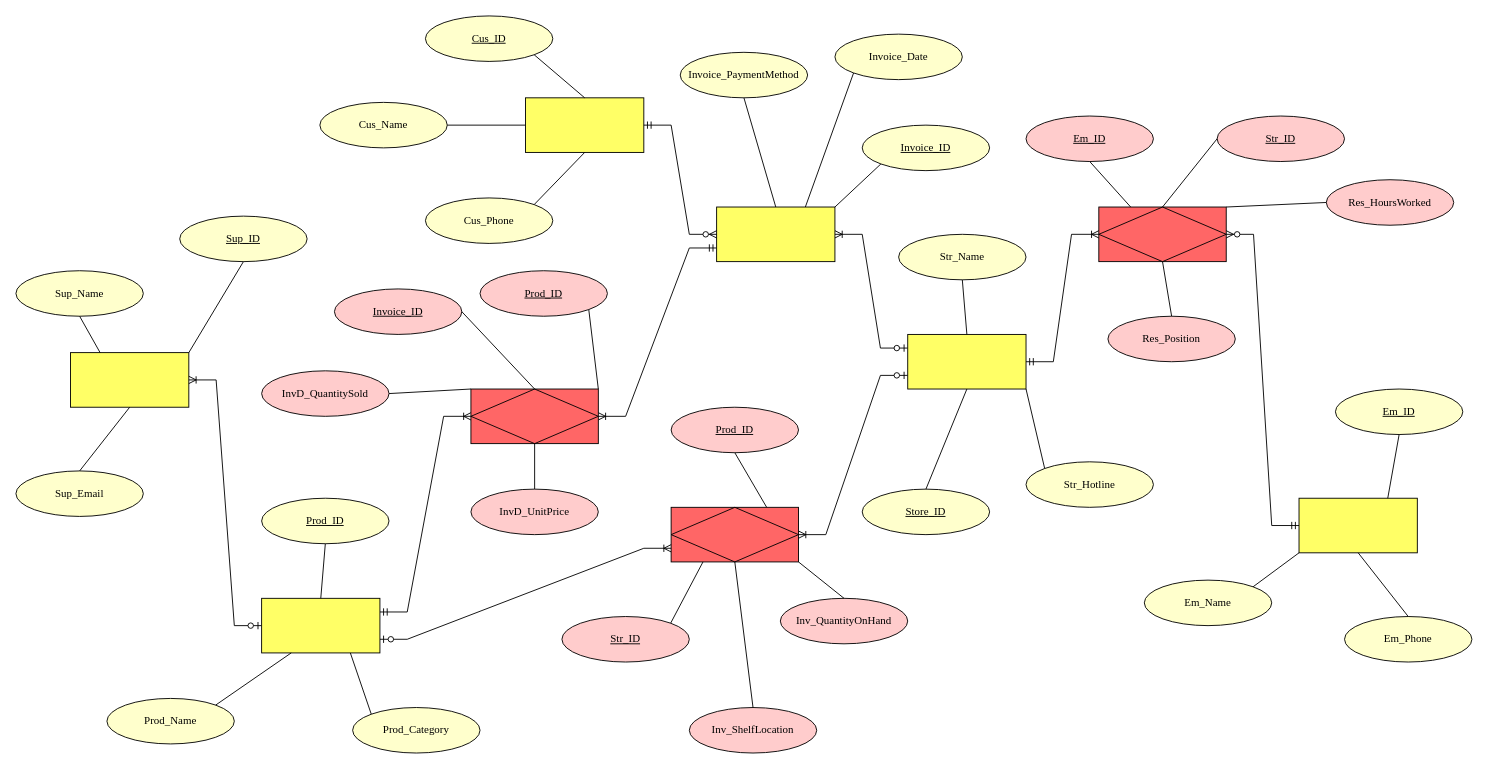
Some shapes in this 1488 by 769 pixel diagram are drawn without their labels. The centre of each missing label's shape, as x and y in pixels:
Customer: point 584,124
Employee: point 1357,525
Inventory: point 734,534
Invoice: point 775,234
InvoiceDetail: point 534,416
Product: point 320,625
Responsibility: point 1162,234
Store: point 966,361
Supplier: point 129,379
